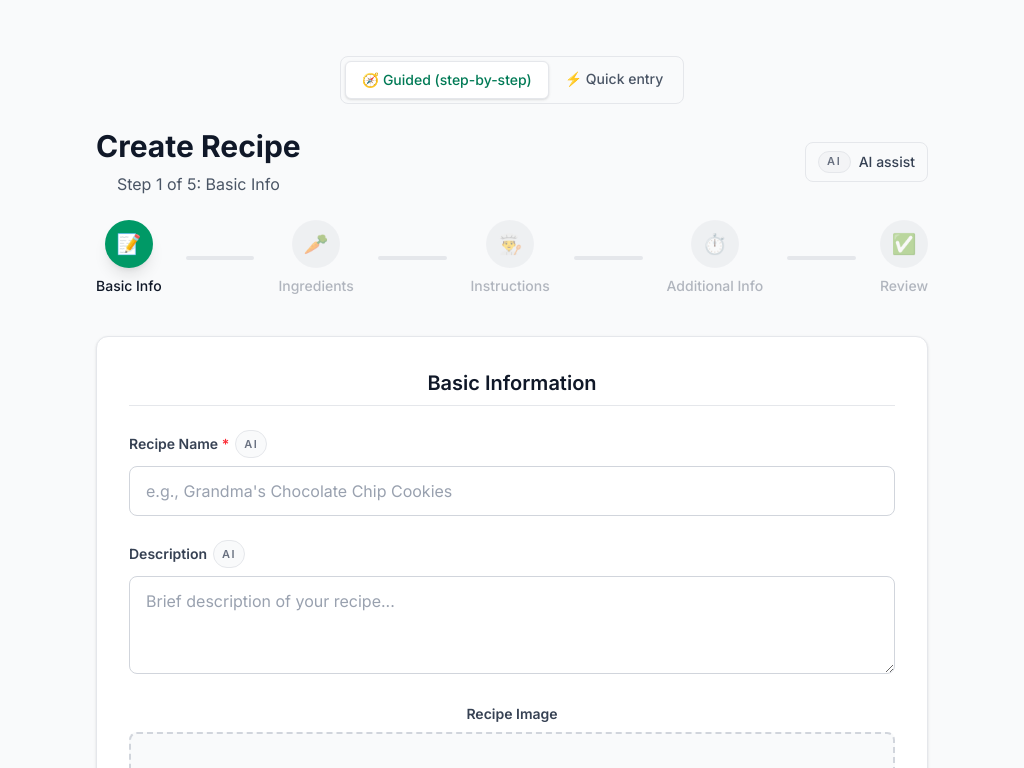
CreateRecipe - Multi-Step Wizard › Step Navigation › should navigate to next step when Next button is clicked
This screenshot has width=1024, height=768.
Type "Test Recipe" into the field with placeholder "e.g., Grandma's Chocolate Chip Cookies" at point(512, 491), box left=129, top=466, right=895, bottom=516
(page scrolled)
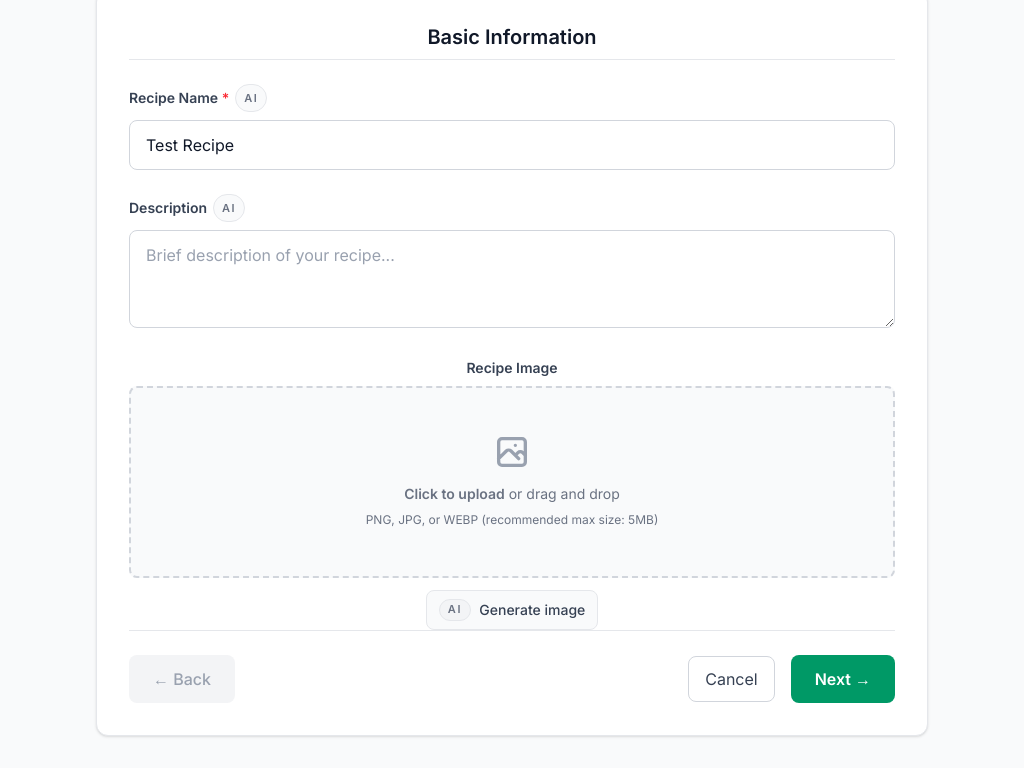
Click the button "Next →" at point(843, 679), box left=791, top=655, right=895, bottom=703
(page scrolled)
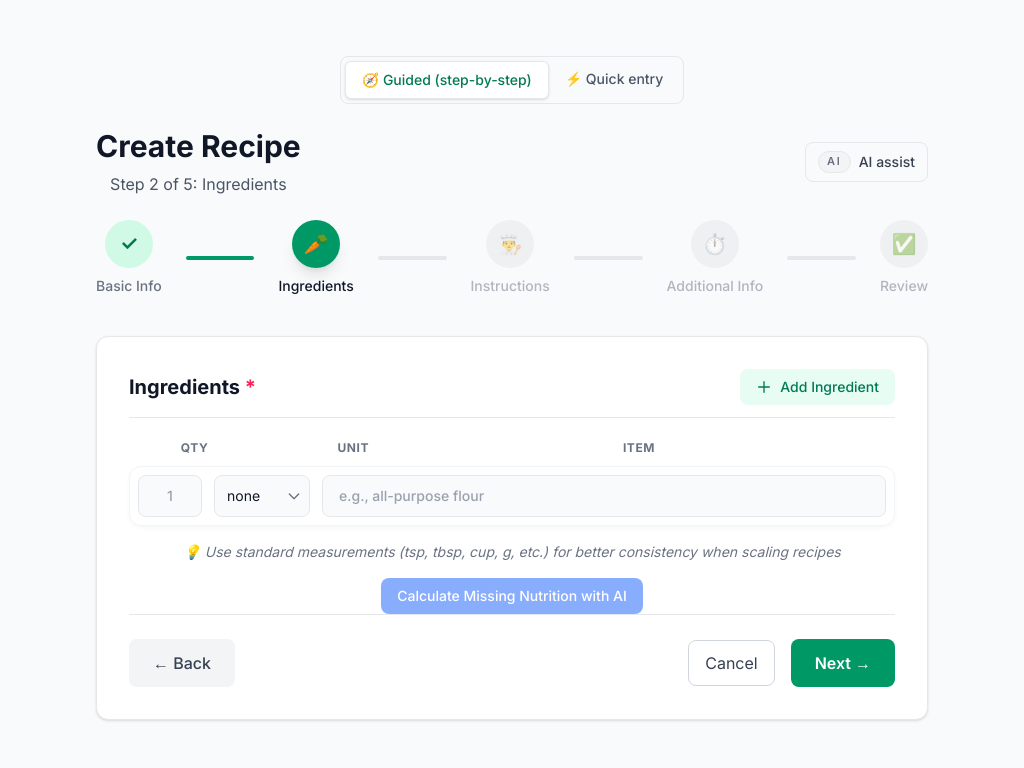
Now the text "Step 2 of 5: Ingredients" is shown, box left=96, top=172, right=301, bottom=196
